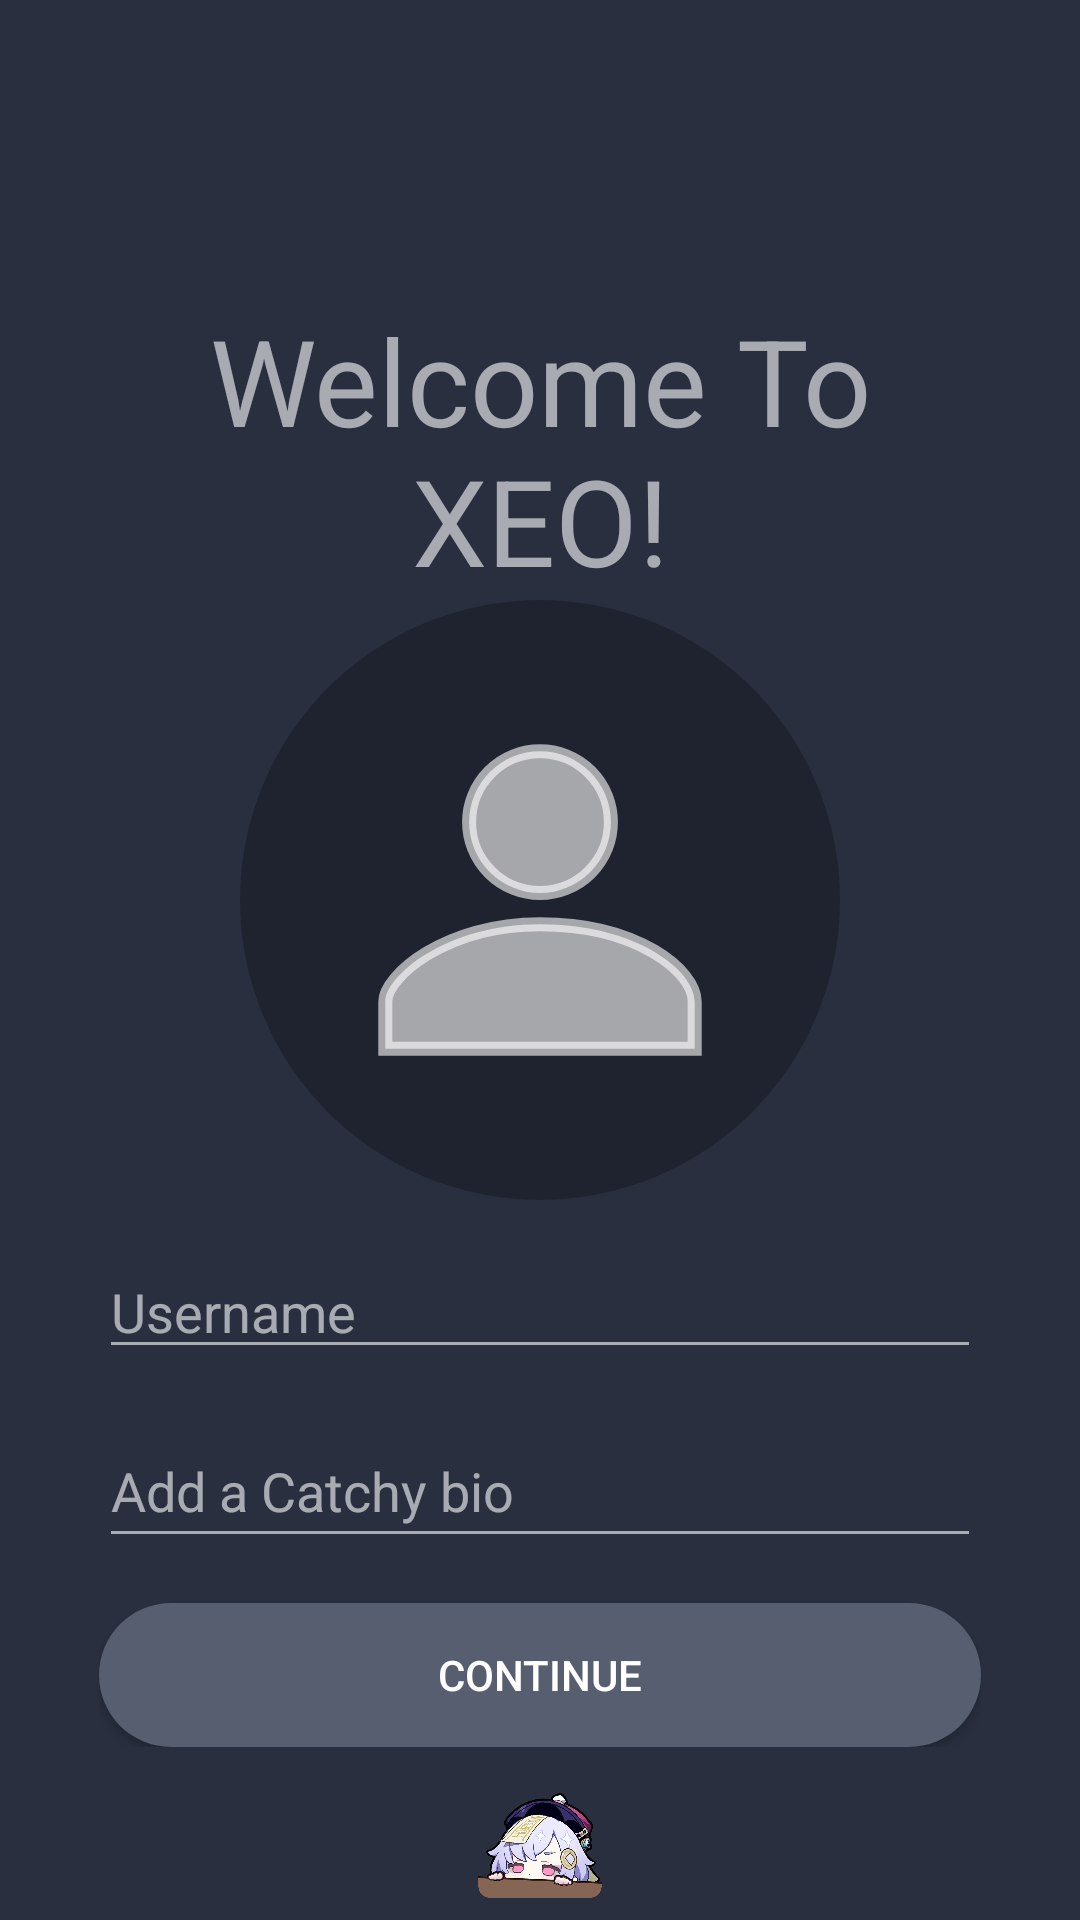

Where to tap for icons on this 1080w x 1920h app screen, as (x,y):
person: (540,900)
